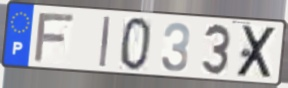0: (118, 15, 154, 72)
3: (200, 22, 233, 77), (160, 21, 192, 73)
F: (31, 12, 77, 65)
I: (98, 14, 112, 69)
X: (234, 24, 280, 80)
